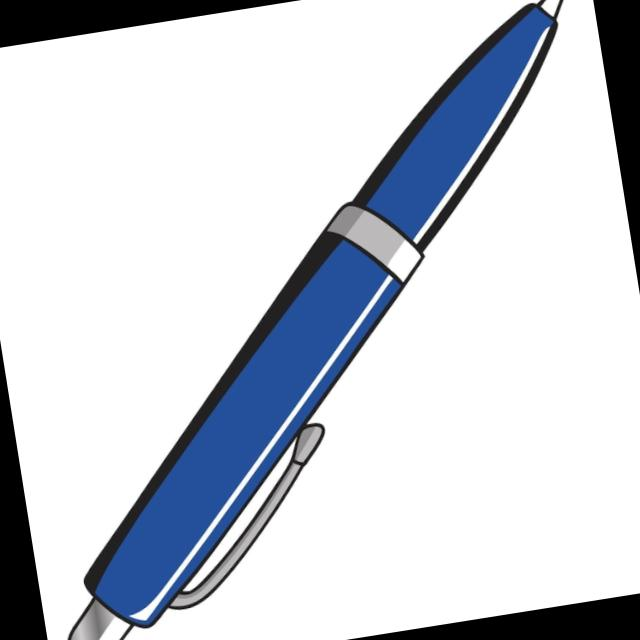pen: (43, 0, 591, 640)
